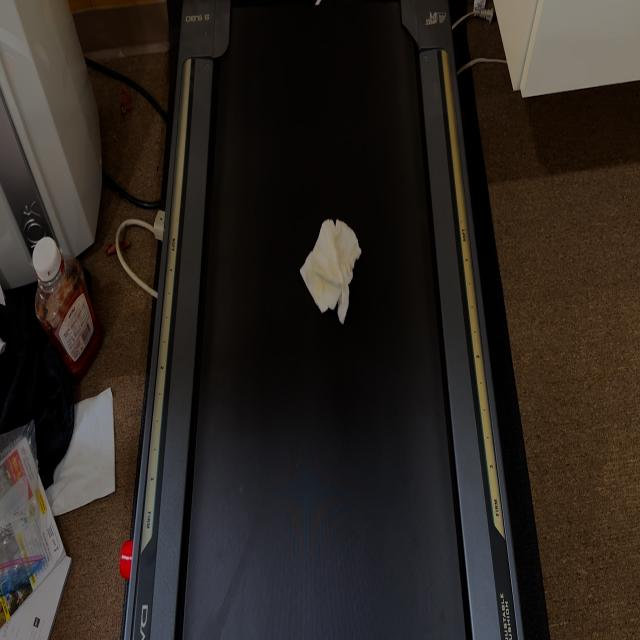Recycle: (300, 216, 363, 325)
